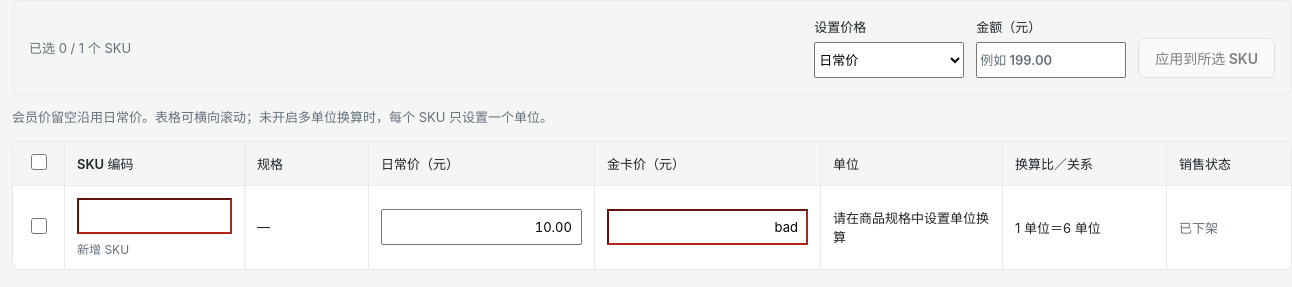
SKU table editing › flags invalid grade prices and missing units while showing fallback names
Click the checkbox named "选择 SKU 默认规格": click(38, 226) [30,218,46,234]
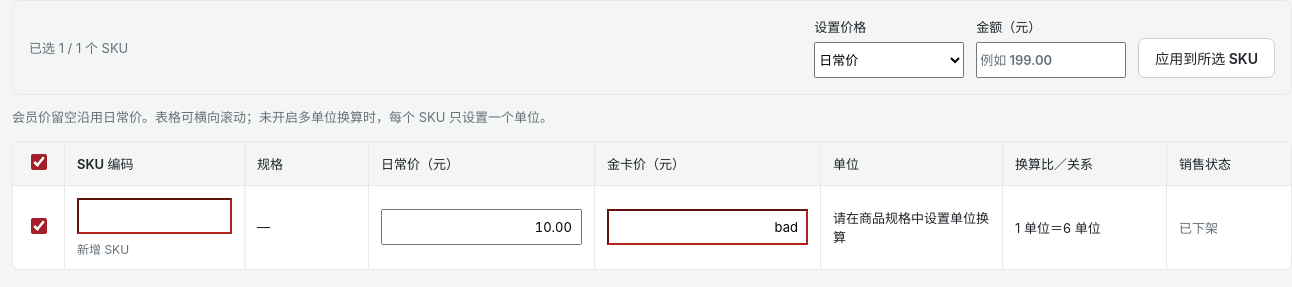
expect the text "已选 1 / 1" is shown: met, box [29,40,128,56]
